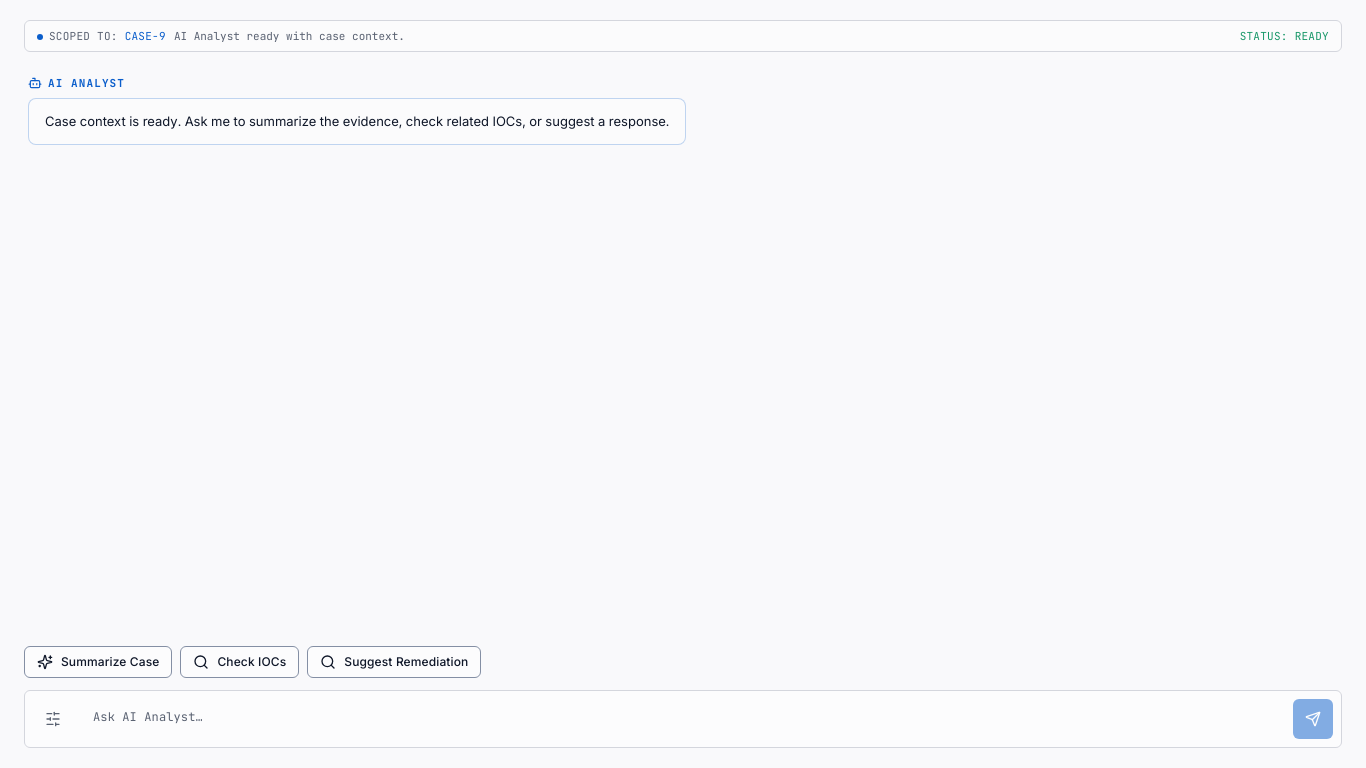
Scenario: ChatTab — reuses the shared ChatPanel (Round-8 #6) › keeps live source and model selection inside the compact analyst settings control
The width and height of the screenshot is (1366, 768).
Click the button named "Chat settings".
click(53, 719)  # box x1=33 y1=699 x2=73 y2=739
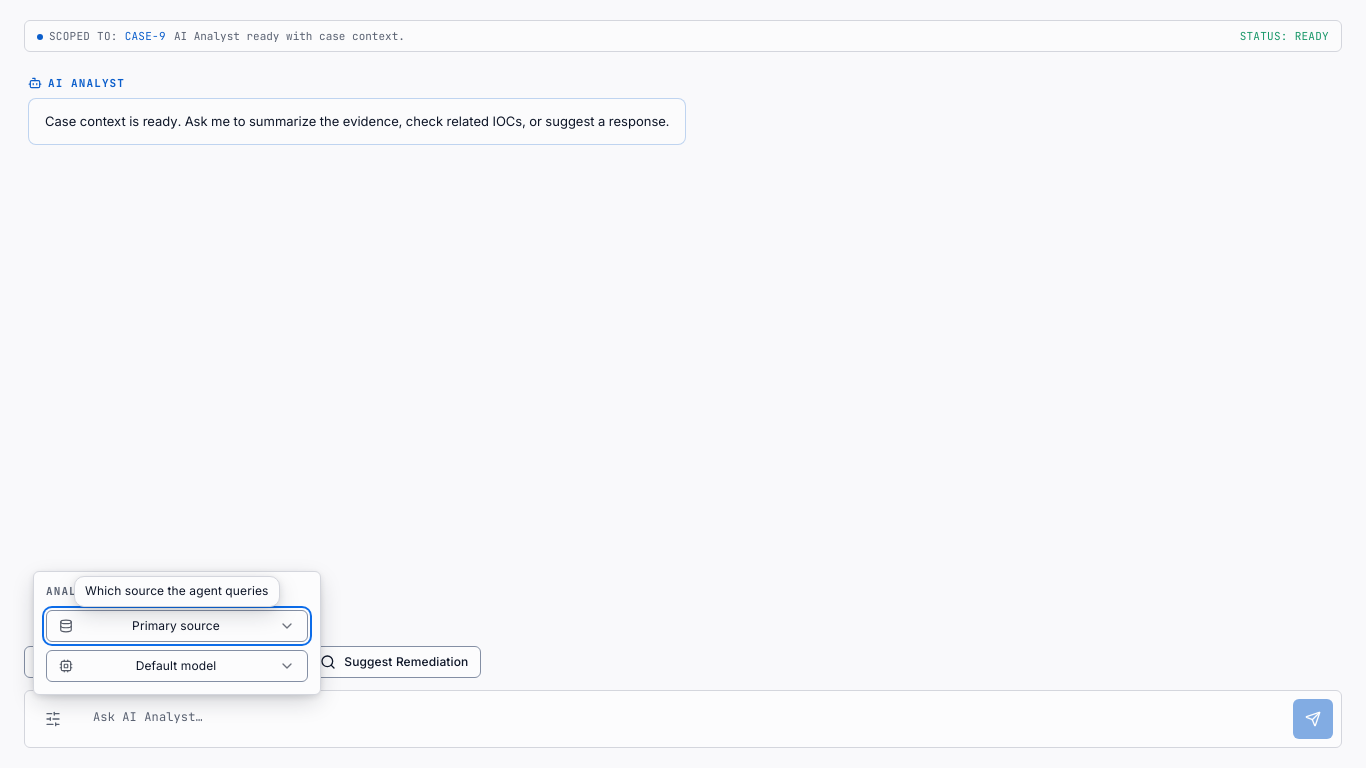
Now the dropdown labelled "source" is shown, box x1=46 y1=610 x2=308 y2=642
Now the dropdown labelled "model" is shown, box x1=46 y1=650 x2=308 y2=682
Now the text "Analyst settings" is shown, box x1=46 y1=584 x2=169 y2=598
